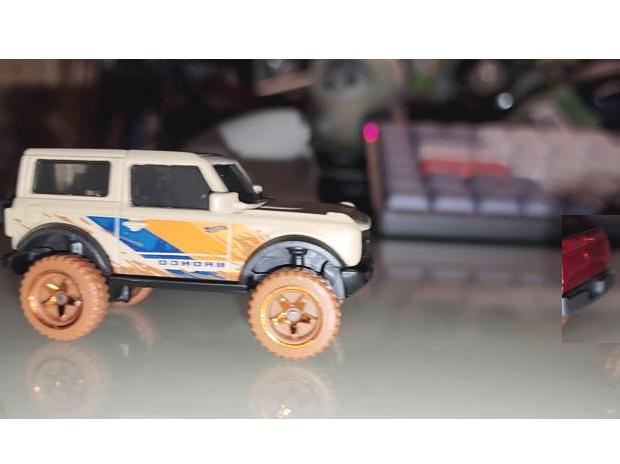toy-car: (0, 145, 376, 360), (562, 215, 620, 343)
